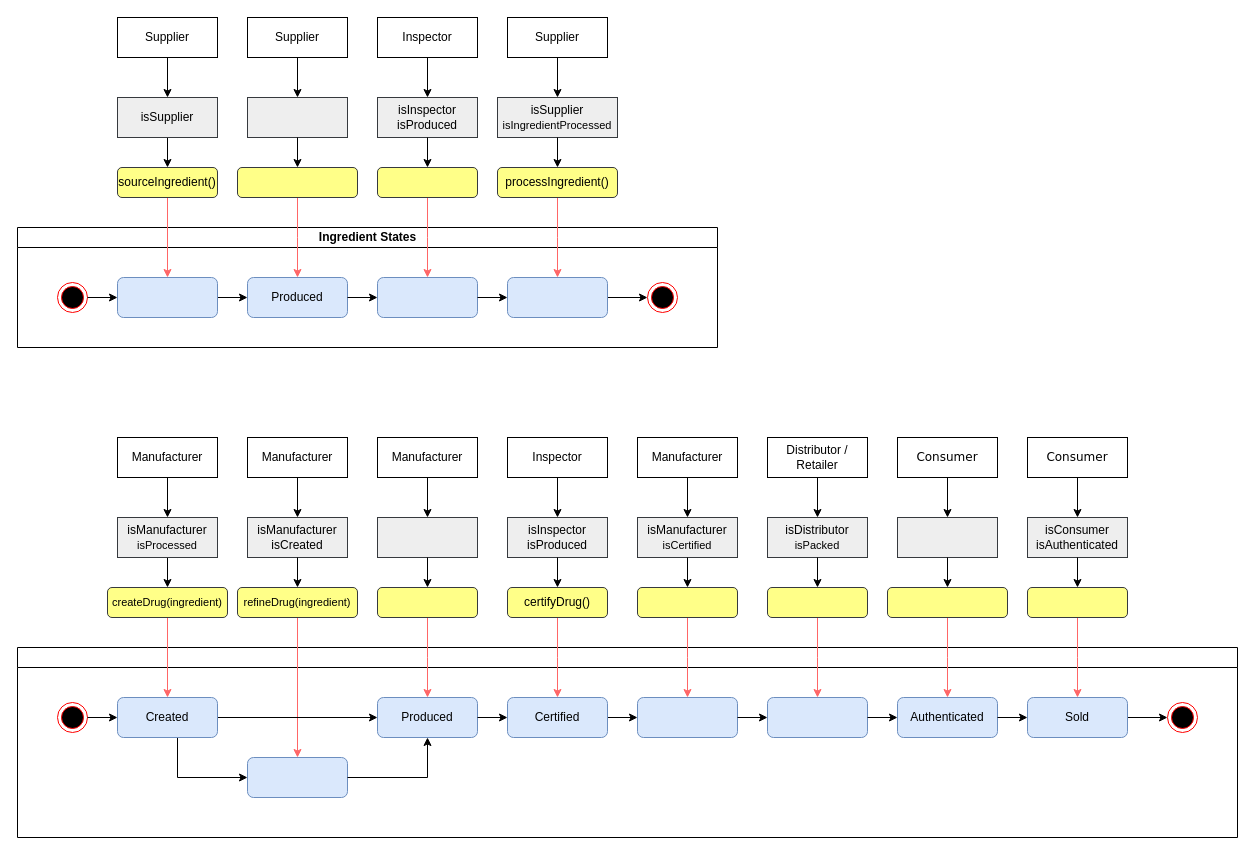
The diagram is 1255 pixels wide and 855 high, and some of its shapes have lost their labels. The shapes that lost their labels are listed below. From the top down, each one's box as (x1, y1, x2, y2) in pixels, then its label:
(246, 96, 348, 138): isSupplier isSourced
(236, 166, 358, 198): produceIngredient()
(376, 166, 478, 198): auditIngredient()
(116, 276, 218, 318): Sourced
(376, 276, 478, 318): Audited
(506, 276, 608, 318): Processed
(376, 516, 478, 558): isManufacturer (isCreated or isRefined)
(896, 516, 998, 558): isConsumer isDistributed
(376, 586, 478, 618): produceDrug()
(636, 586, 738, 618): packDrug()
(766, 586, 868, 618): distributeDrug()
(886, 586, 1008, 618): authenticateDrug()
(1026, 586, 1128, 618): buyDrug()
(636, 696, 738, 738): Packed
(766, 696, 868, 738): Distributed
(16, 646, 1238, 838): Juicy States
(246, 756, 348, 798): Refined
